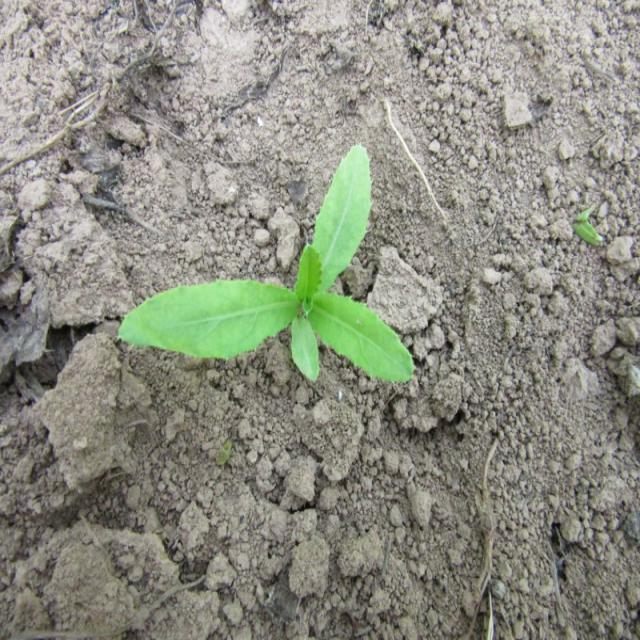field_thistle: (91, 138, 424, 408)
